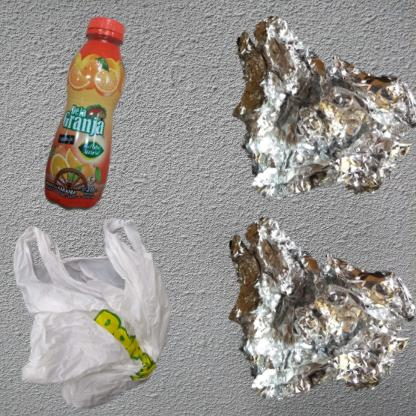aluminio: (213, 10, 416, 224), (213, 213, 416, 416)
bolsa: (10, 213, 180, 416)
botella: (10, 10, 216, 287)
